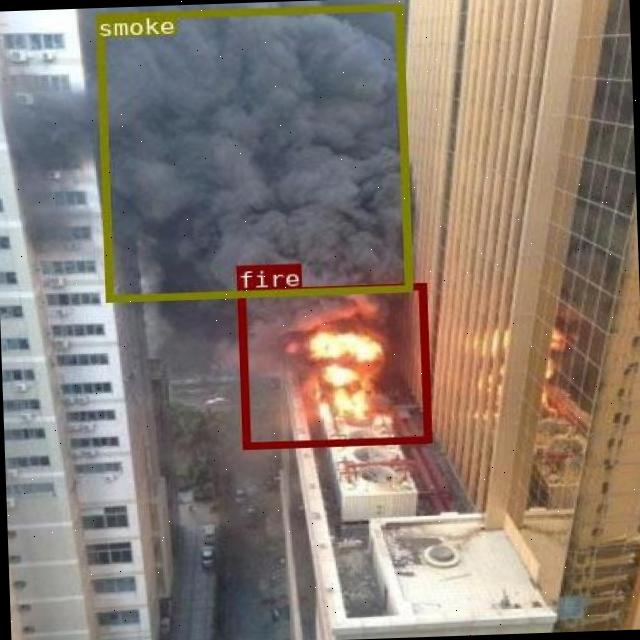fire: (236, 282, 429, 448)
smoke: (94, 2, 412, 300)
